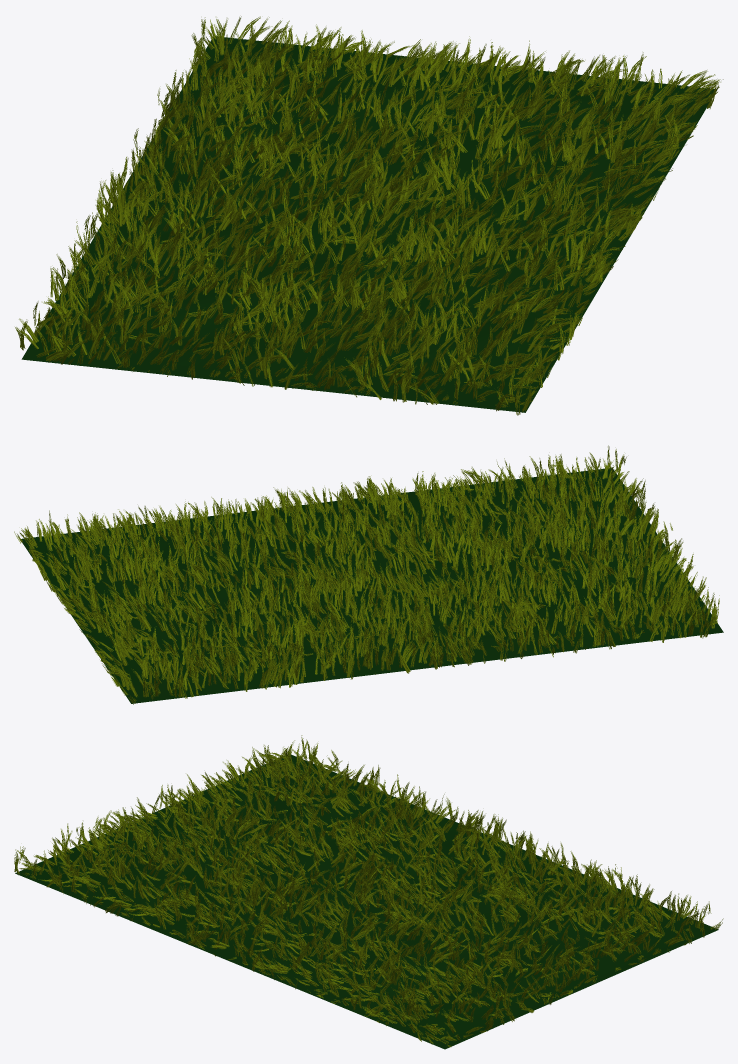
File: grass.glb
The picture shows the model from 3 angles, top to bottom: view 1: azimuth 30°, elevation 25°; view 2: azimuth 150°, elevation 25°; view 3: azimuth 270°, elevation 25°; orthographic projection. The views are drawn at different scales.
Visible parts, largest first — view 1: Carpet 2_0; view 2: Carpet 2_0; view 3: Carpet 2_0.
Boxes of the visible parts, bbox=[...] form: Carpet 2_0: bbox=[15, 16, 723, 415]; Carpet 2_0: bbox=[14, 445, 723, 704]; Carpet 2_0: bbox=[14, 735, 723, 1049].
Size of the model in its own units: 5.45 by 0.2578 by 5.48.
